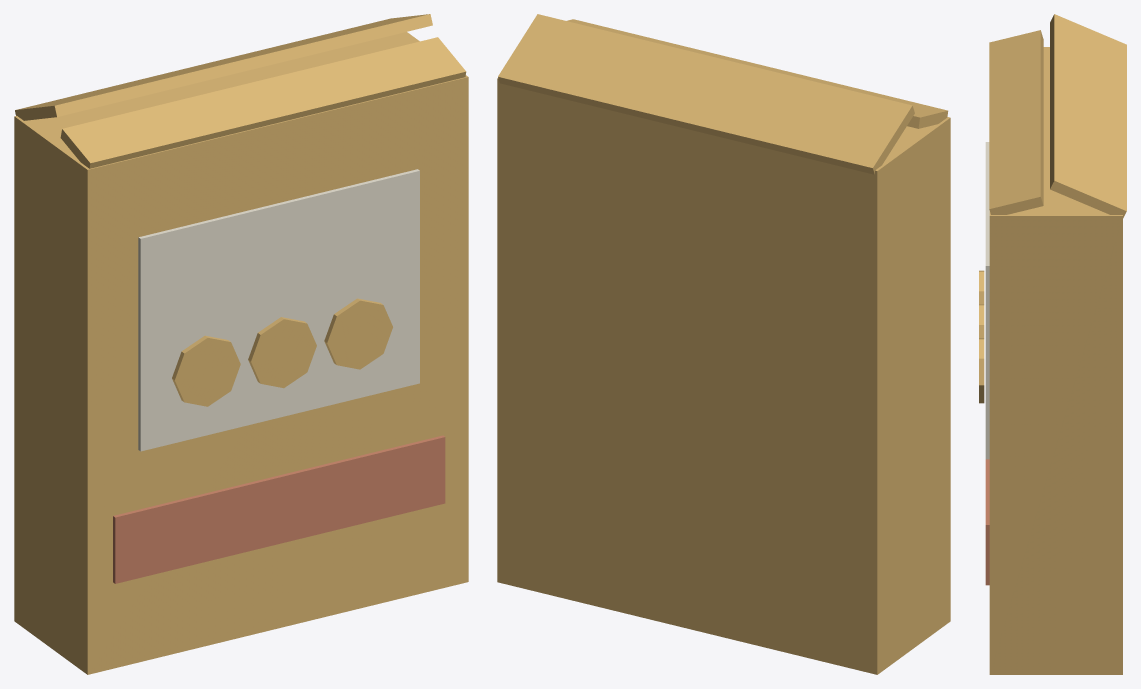
The model's file is food_crackers.glb.
The picture shows the model from 3 angles, left to right: view 1: azimuth 30°, elevation 25°; view 2: azimuth 150°, elevation 25°; view 3: azimuth 270°, elevation 25°; orthographic projection. The views are drawn at different scales.
Visible parts, largest first — view 1: Crackers; view 2: Crackers; view 3: Crackers.
Boxes of the visible parts, x1=… form: Crackers: x1=14, y1=14, x2=468, y2=674; Crackers: x1=497, y1=14, x2=950, y2=674; Crackers: x1=979, y1=14, x2=1126, y2=674.
Bounding box in the file's own units: 0.15 × 0.2042 × 0.0554.
